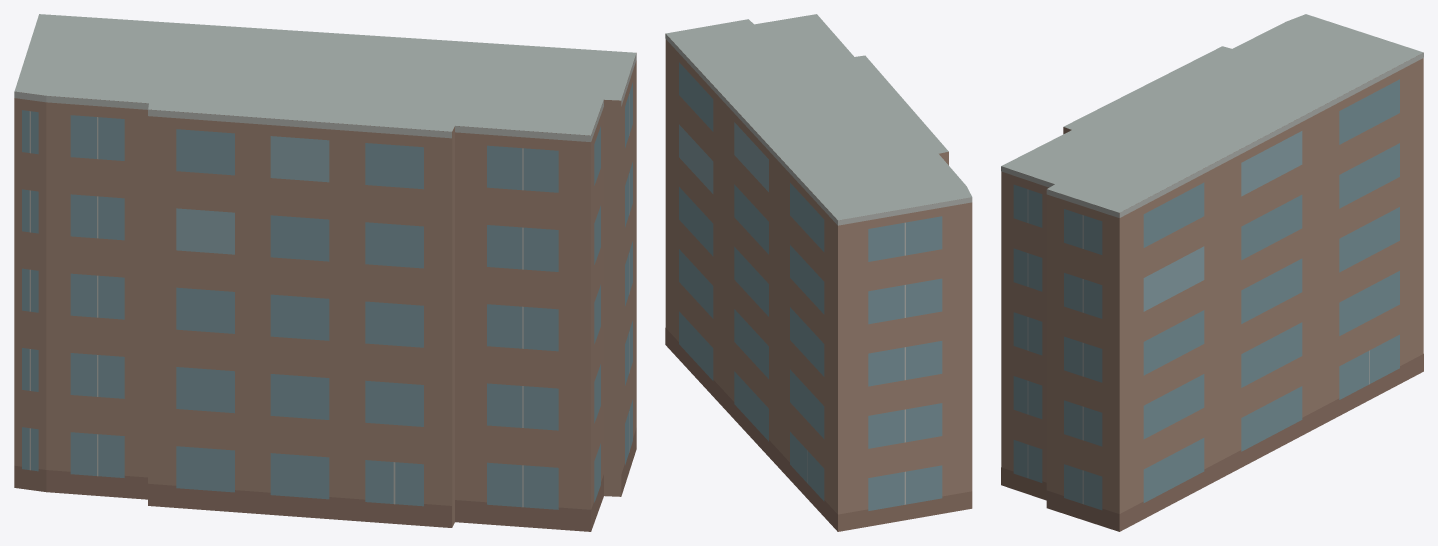
File: survey-upis-32782539.glb
3 views of the same model, side by side, from view 1: azimuth 30°, elevation 25°; view 2: azimuth 150°, elevation 25°; view 3: azimuth 270°, elevation 25° (orthographic). The views are drawn at different scales.
Visible parts, largest first — view 1: survey-upis-32782539.tmp; view 2: survey-upis-32782539.tmp; view 3: survey-upis-32782539.tmp.
Boxes of the visible parts, x1=… form: survey-upis-32782539.tmp: x1=14, y1=14, x2=636, y2=531; survey-upis-32782539.tmp: x1=665, y1=14, x2=972, y2=531; survey-upis-32782539.tmp: x1=1001, y1=14, x2=1423, y2=531.
Size of the model in its own units: 19.52 by 14.6 by 17.54.
